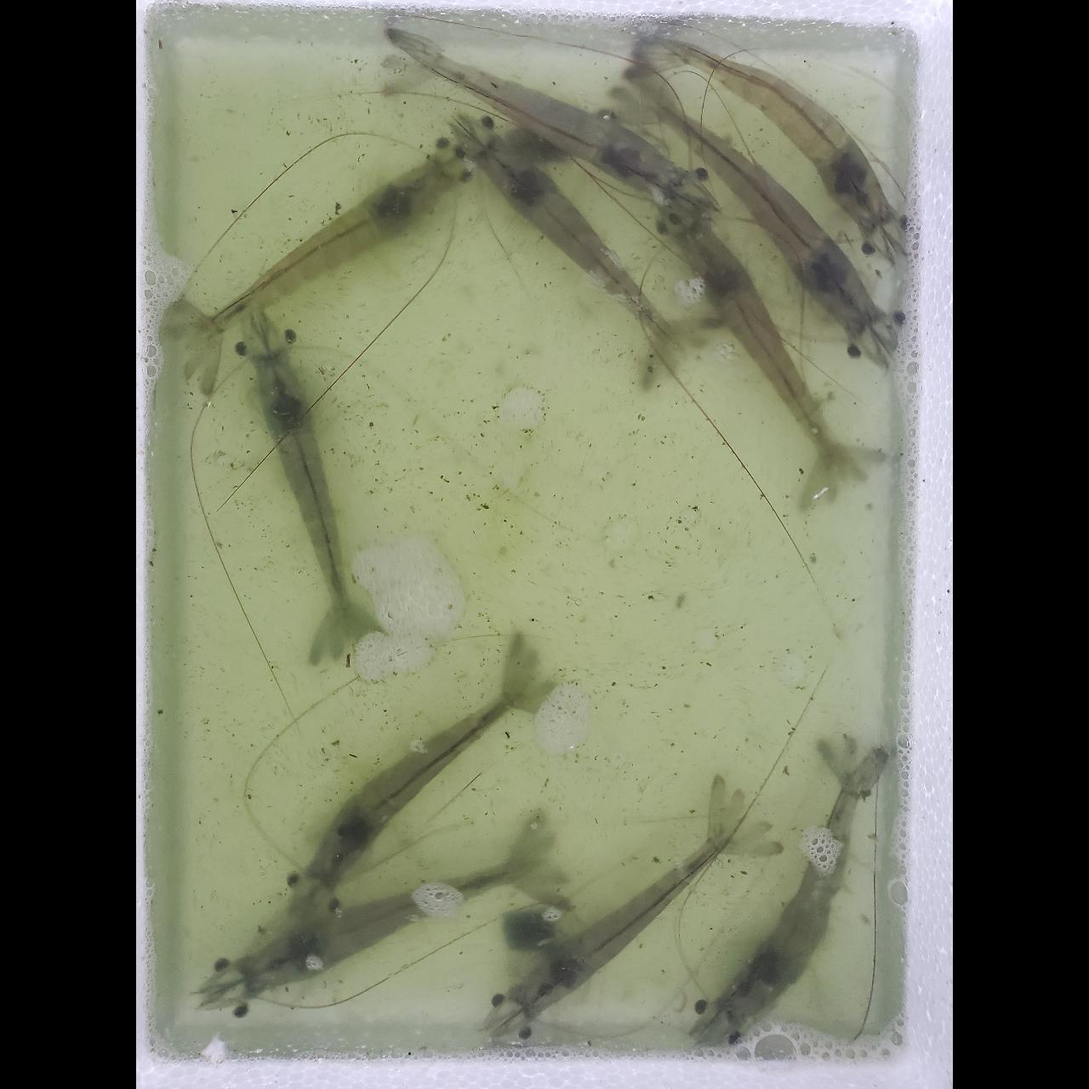box: (507, 910, 556, 951)
top_shrimp: (631, 86, 869, 328), (667, 202, 849, 484), (184, 163, 446, 349), (311, 673, 538, 878), (475, 139, 686, 353), (658, 37, 890, 230), (398, 47, 677, 200), (521, 818, 738, 1006), (725, 746, 873, 1021), (247, 858, 555, 989), (254, 356, 351, 645)
